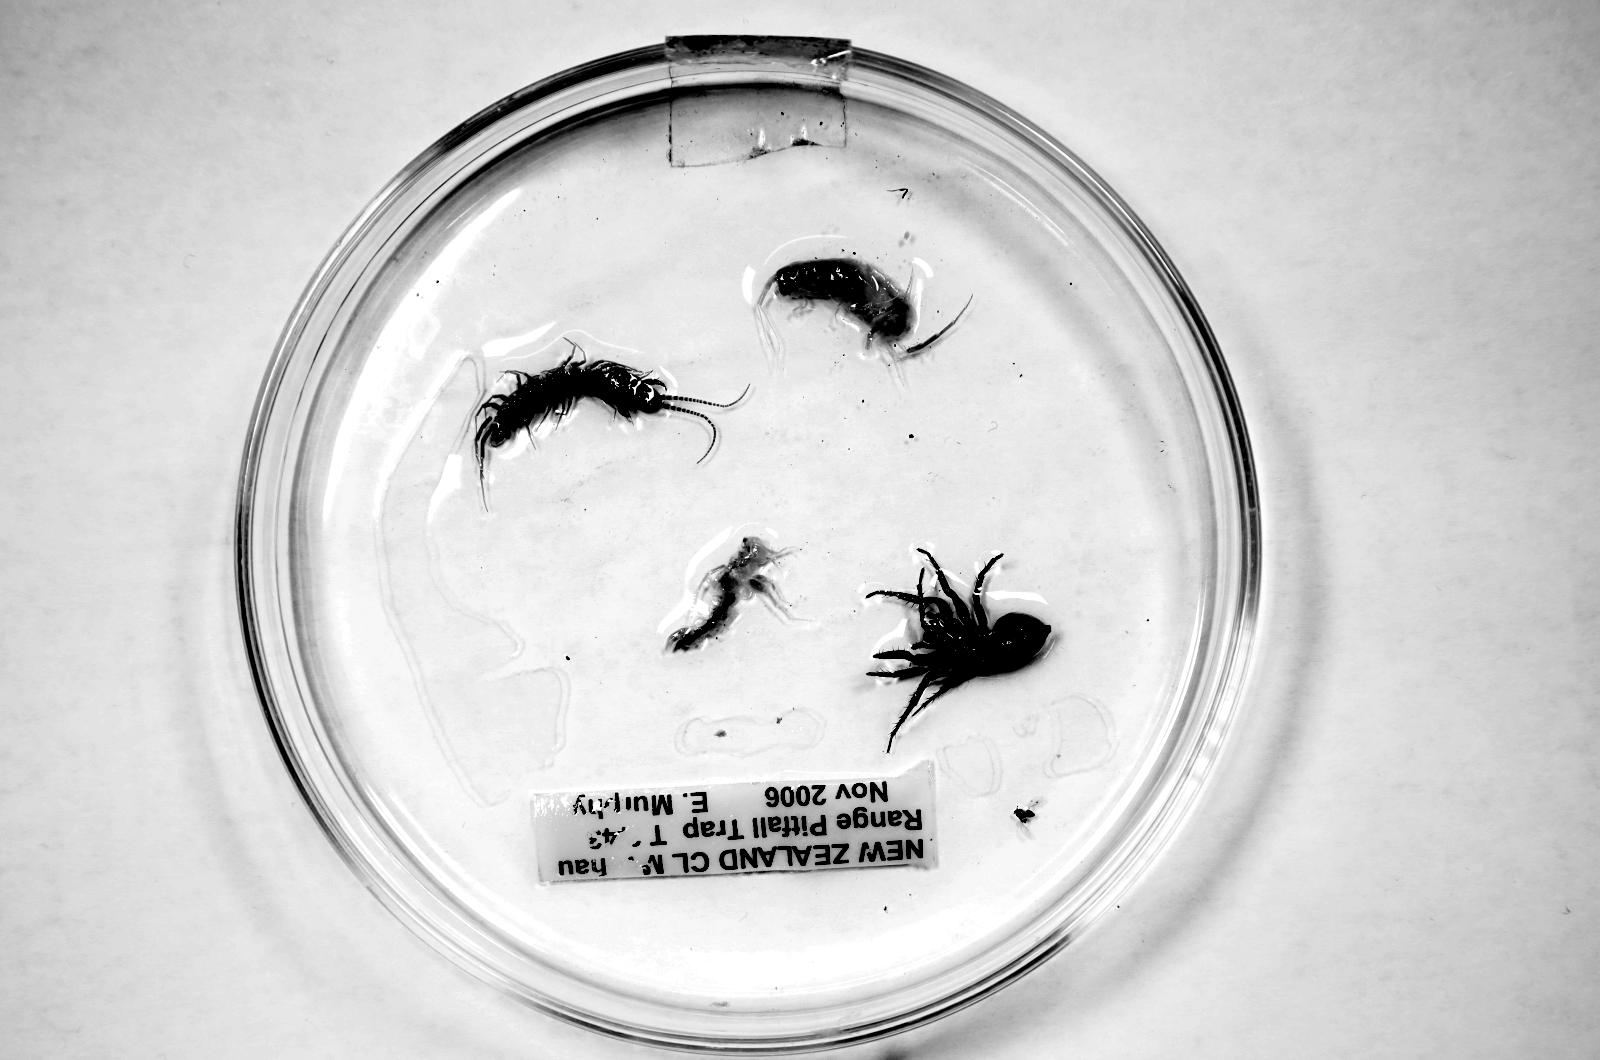amphipoda: (664, 536, 793, 652), (770, 258, 915, 347)
araneae: (868, 548, 1051, 750)
chilopoda: (473, 340, 750, 510)
